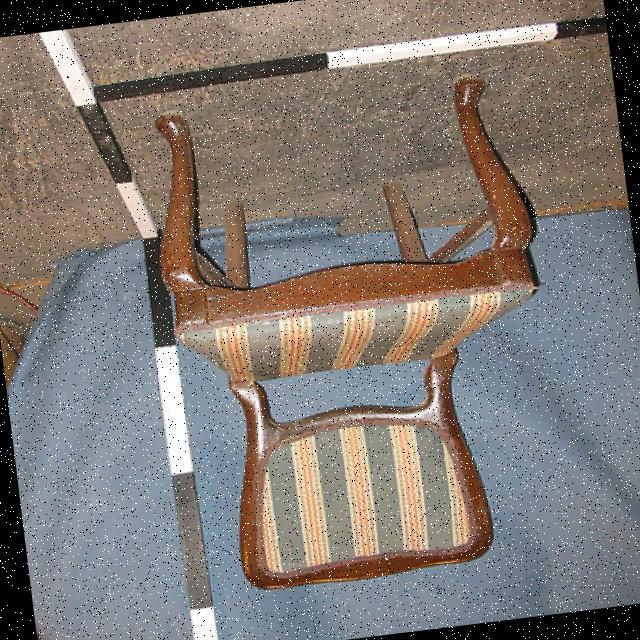Chair: (132, 62, 590, 618)
